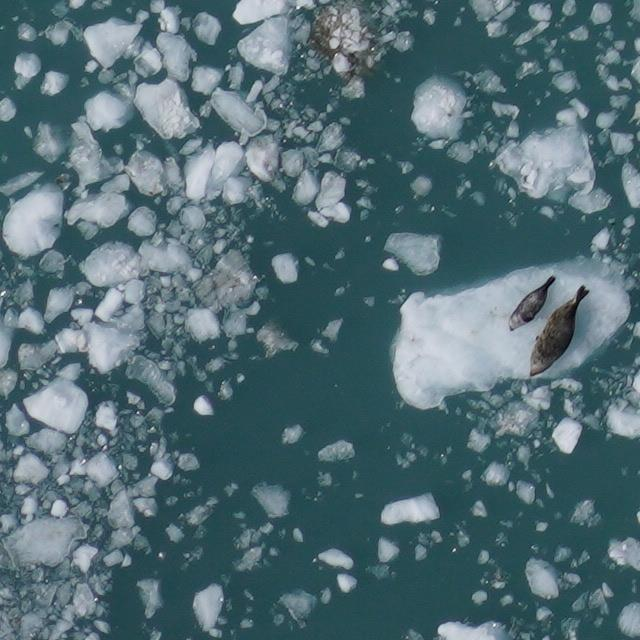seal: (520, 277, 594, 384), (498, 270, 567, 339)
